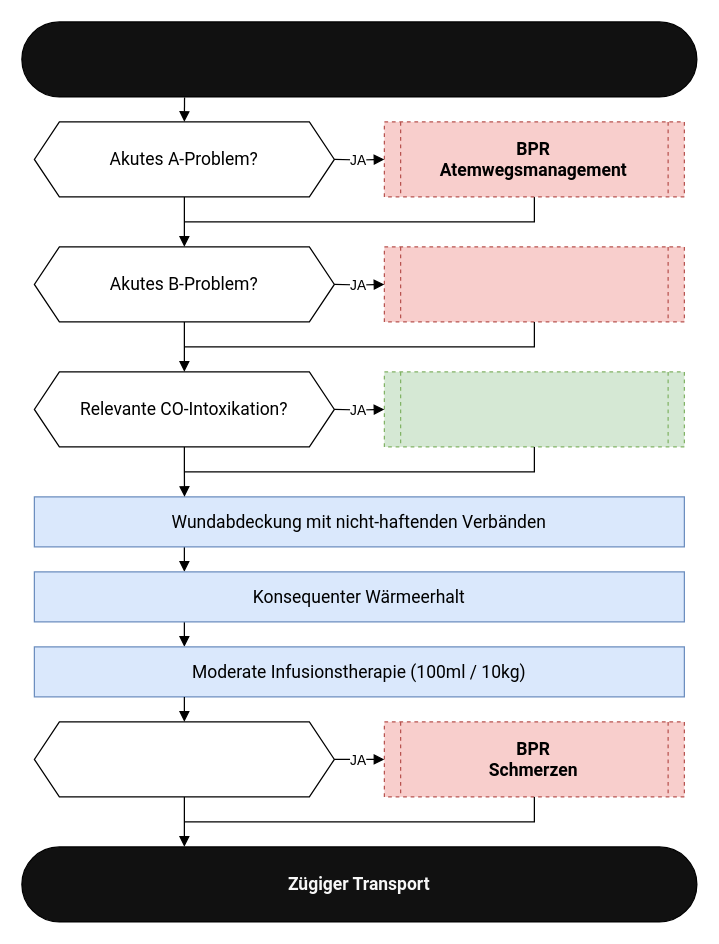
Some shapes in this 719 by 944 pixel diagram are drawn without their labels. Each missing label, with the box of its shape:
BPR Bronchialobstruktion: (383, 246, 684, 322)
SAA NIV: (383, 371, 684, 447)
Schmerzen NRS ≥ 4?: (33, 721, 334, 797)
Verbrennung / Verbrühung: (21, 21, 697, 97)
